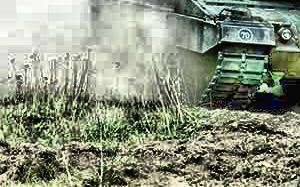tanks: (133, 1, 300, 108), (97, 1, 126, 5)
